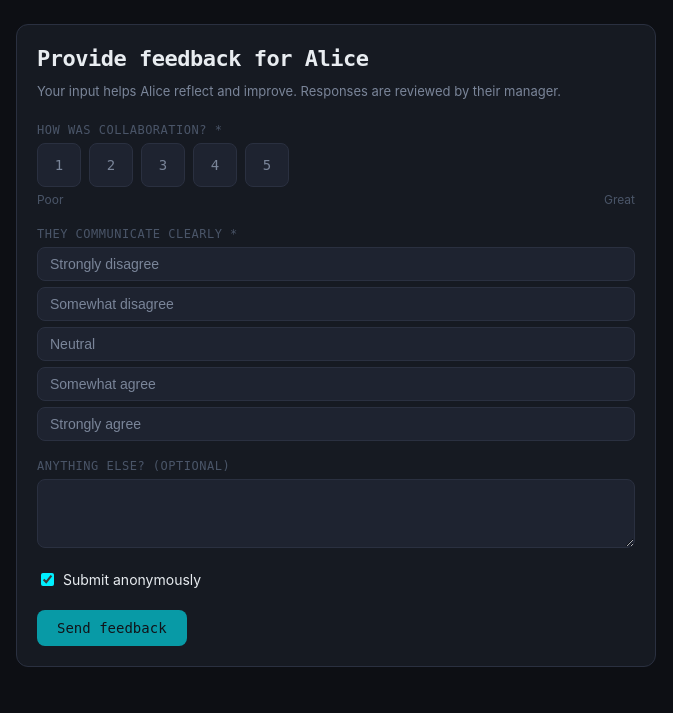
Test case: PublicFeedbackPage › hides name/email when anonymous toggle is on (default) and shows them when off
The image size is (673, 713).
Click the checkbox with test id "public-feedback-anonymous-toggle" at (48, 580), box [41,573,54,586]
(page scrolled)
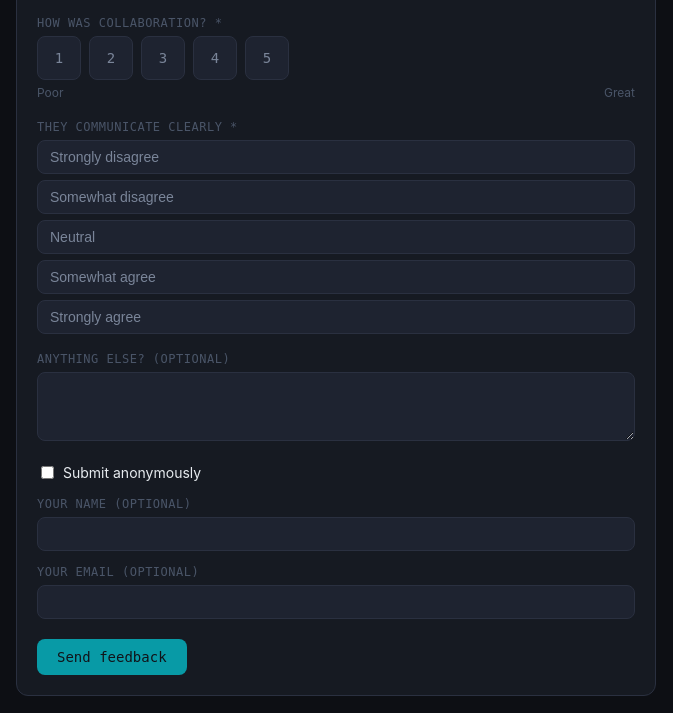
Expected: the field with test id "public-feedback-name" is shown, [37,517,635,551]
Expected: the field with test id "public-feedback-email" is shown, [37,585,635,619]
